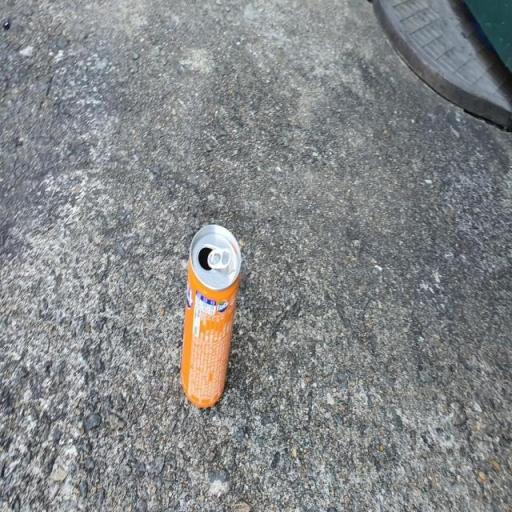metal: (148, 209, 289, 512)
